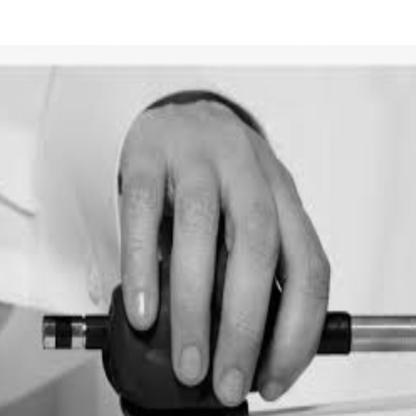good: (121, 112, 330, 401)
